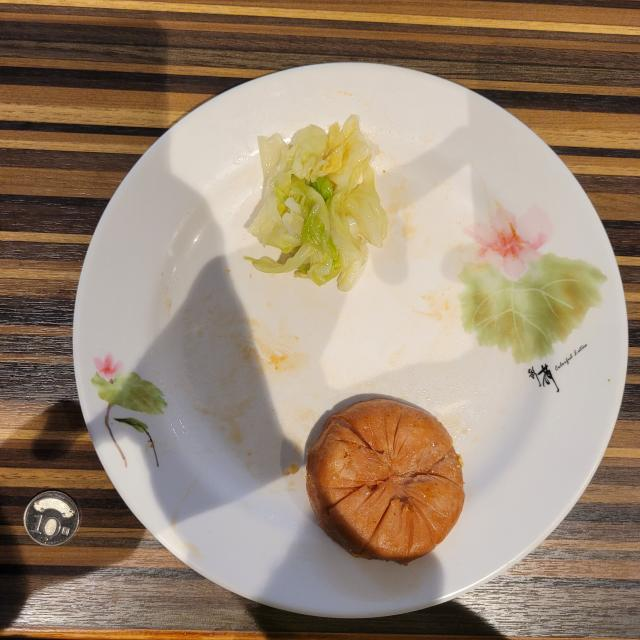Spam: (306, 399, 465, 565)
cabbage: (245, 115, 389, 291)
coin: (24, 491, 80, 546)
